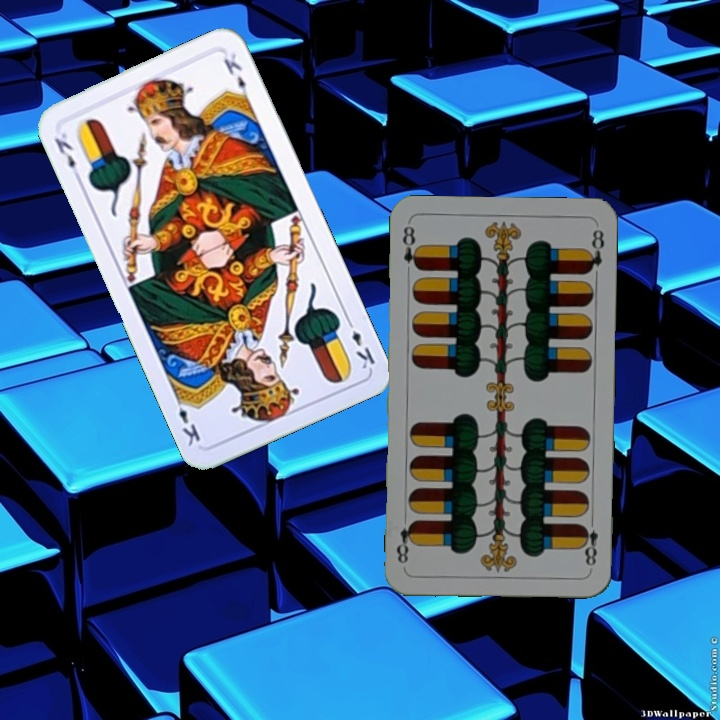E8: (577, 513, 600, 569), (398, 222, 423, 272)
EK: (342, 314, 378, 372), (50, 128, 84, 183)
